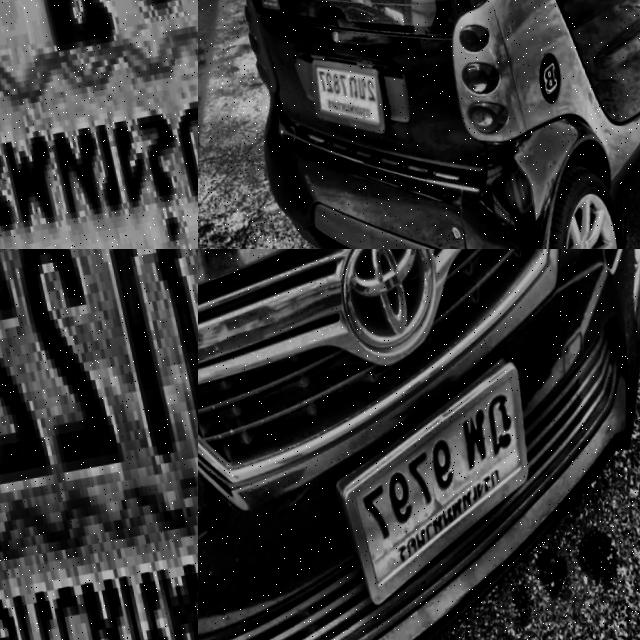license-plate: (0, 249, 198, 640), (309, 344, 559, 615), (0, 0, 198, 249), (295, 47, 388, 150)
